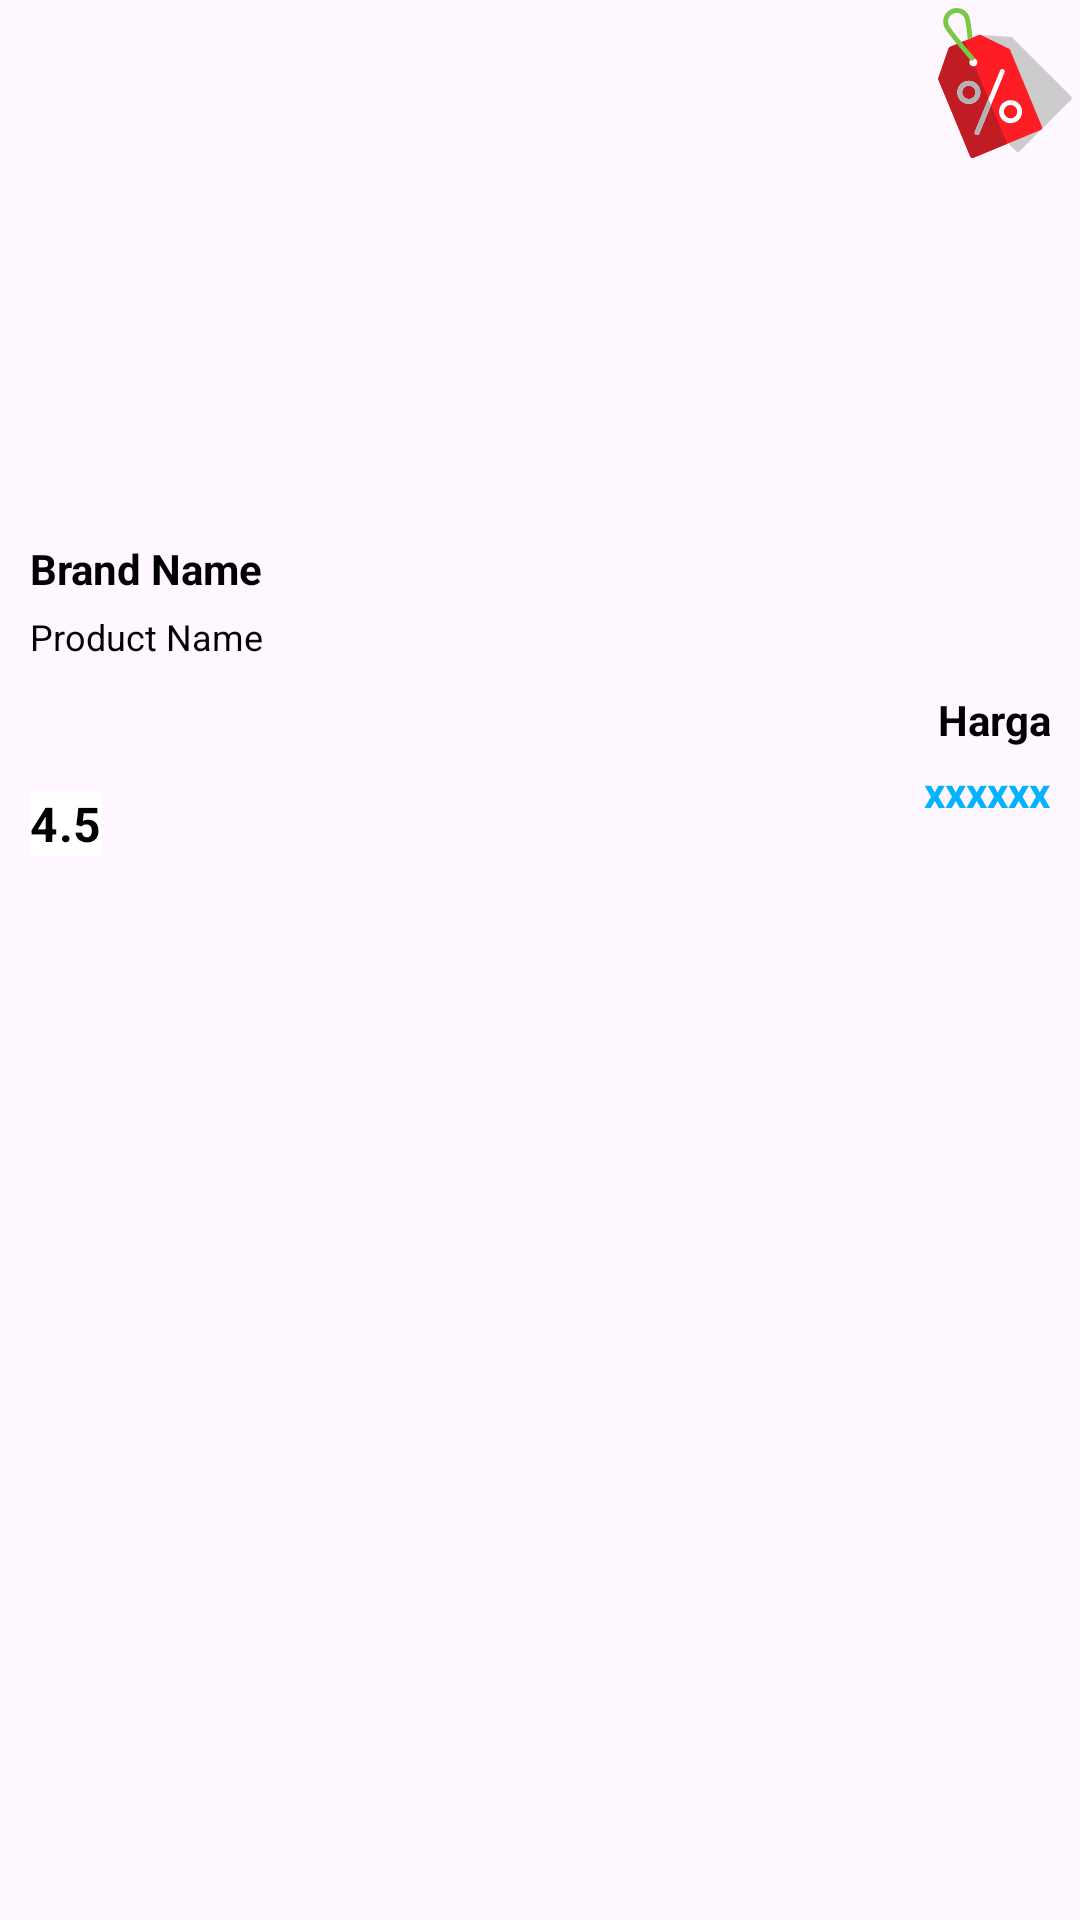

Locate icon controls on the screen. Image size 1080×1920, boxes as detection(x1, y1, x2, y2).
price tag: detection(938, 8, 1072, 158)
